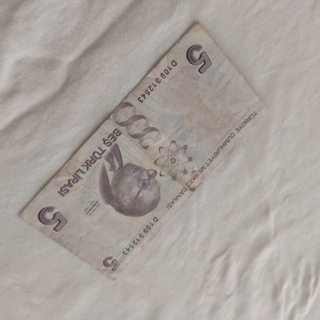5TLBack: (18, 20, 268, 282)
